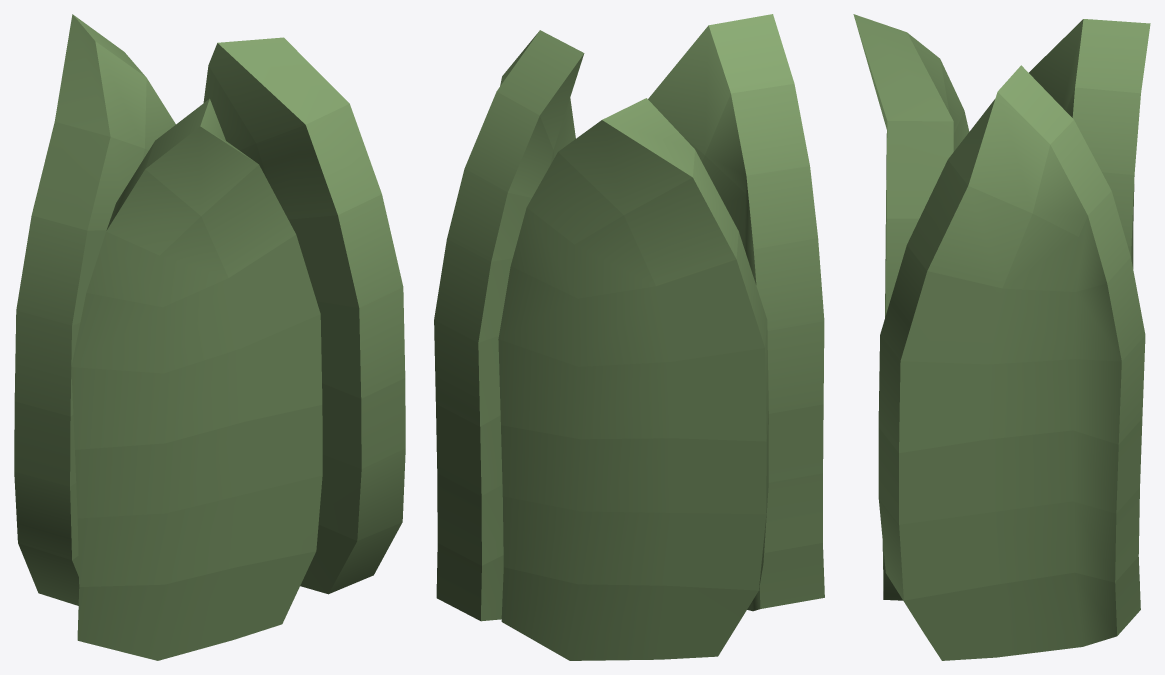
The model's file is leaves3.fbx.
The picture shows the model from 3 angles, left to right: view 1: azimuth 30°, elevation 25°; view 2: azimuth 150°, elevation 25°; view 3: azimuth 270°, elevation 25°; orthographic projection. The views are drawn at different scales.
Parts seen in each view (by area): view 1: pasted__polySurface1 (×2), pasted__pasted__polySurface1; view 2: pasted__pasted__polySurface1, pasted__polySurface1 (×2); view 3: pasted__polySurface1 (×2), pasted__pasted__polySurface1.
Boxes of the visible parts, x1,y1,x2,y2 form: pasted__polySurface1 (×2): [71, 37, 405, 660]; pasted__pasted__polySurface1: [14, 14, 175, 605]; pasted__pasted__polySurface1: [498, 98, 768, 660]; pasted__polySurface1 (×2): [434, 14, 824, 621]; pasted__polySurface1 (×2): [853, 14, 1145, 660]; pasted__pasted__polySurface1: [1029, 19, 1150, 582].
Bounding box in the file's own units: 2.25 × 3.66 × 1.8.
